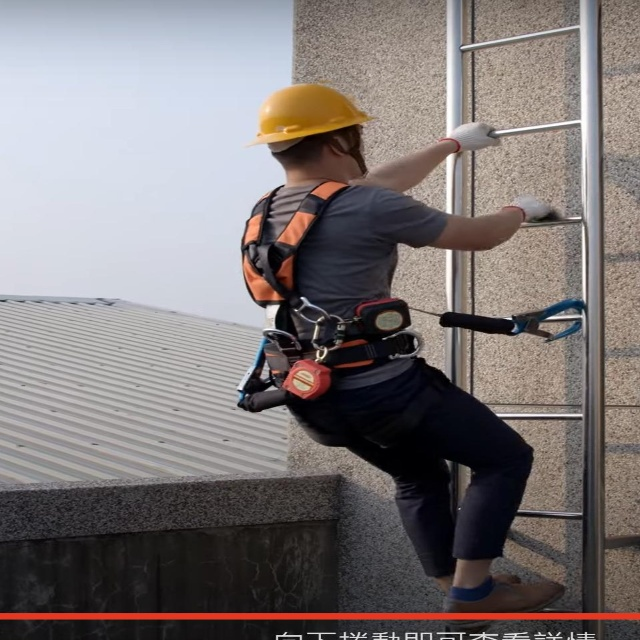Arnes_seguridad: (232, 181, 428, 450)
